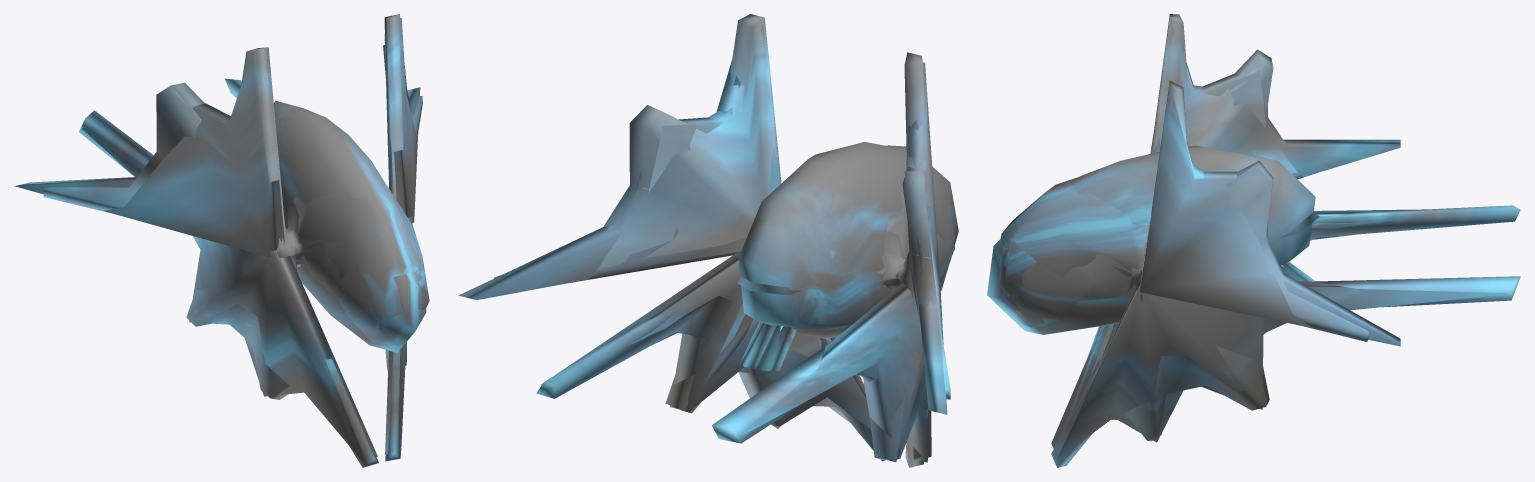
Rendered from ruizong-shield.obj.
3 renders of one model, left to right at view 1: azimuth 30°, elevation 25°; view 2: azimuth 150°, elevation 25°; view 3: azimuth 270°, elevation 25°, orthographic. The views are drawn at different scales.
Size of the model in its own units: 388 by 359 by 424.
